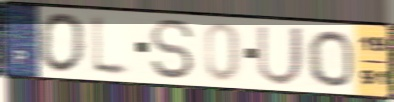0: (202, 21, 243, 84)
L: (90, 11, 135, 81)
O: (36, 11, 88, 75), (305, 28, 356, 89)
S: (147, 18, 196, 82)
U: (255, 23, 306, 88)
